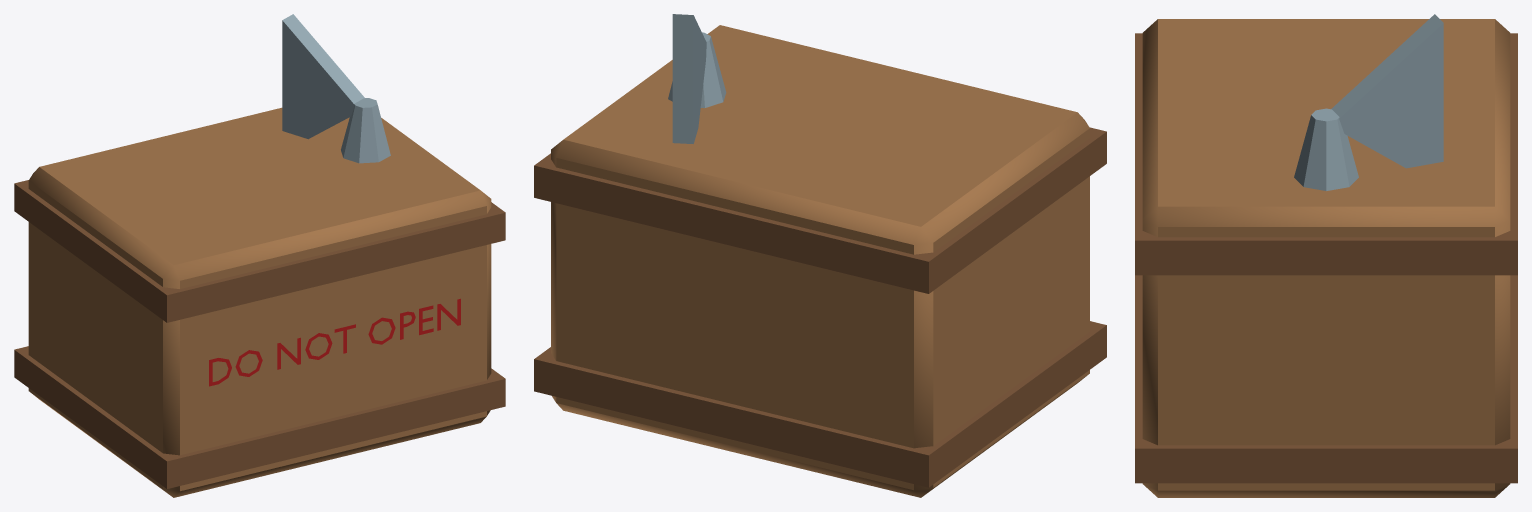
File: underworld_package.glb
3 views of the same model, side by side, from view 1: azimuth 30°, elevation 25°; view 2: azimuth 150°, elevation 25°; view 3: azimuth 270°, elevation 25° (orthographic). The views are drawn at different scales.
Visible parts, largest first — view 1: UWPackage_body; view 2: UWPackage_body; view 3: UWPackage_body.
Part boxes in pixels (x1=…): UWPackage_body: x1=14, y1=14, x2=505, y2=497; UWPackage_body: x1=534, y1=14, x2=1106, y2=497; UWPackage_body: x1=1135, y1=14, x2=1517, y2=497.
Bounding box in the file's own units: 0.64 × 0.62 × 0.5.
